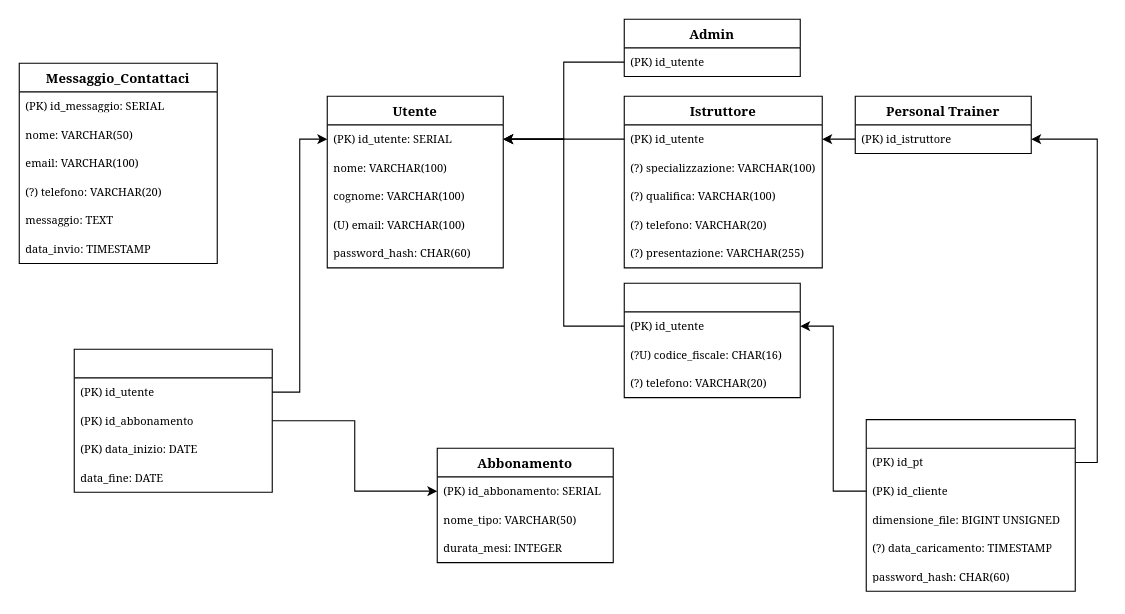
This 1125x614 diagram has some shape labels left out. The box of each missing label's shape, as (x1, y1, x2, y2) in pixels:
Assegnazione_PT: (865, 419, 1075, 591)
Cliente: (623, 282, 800, 398)
Sottoscrizione: (73, 348, 272, 492)
